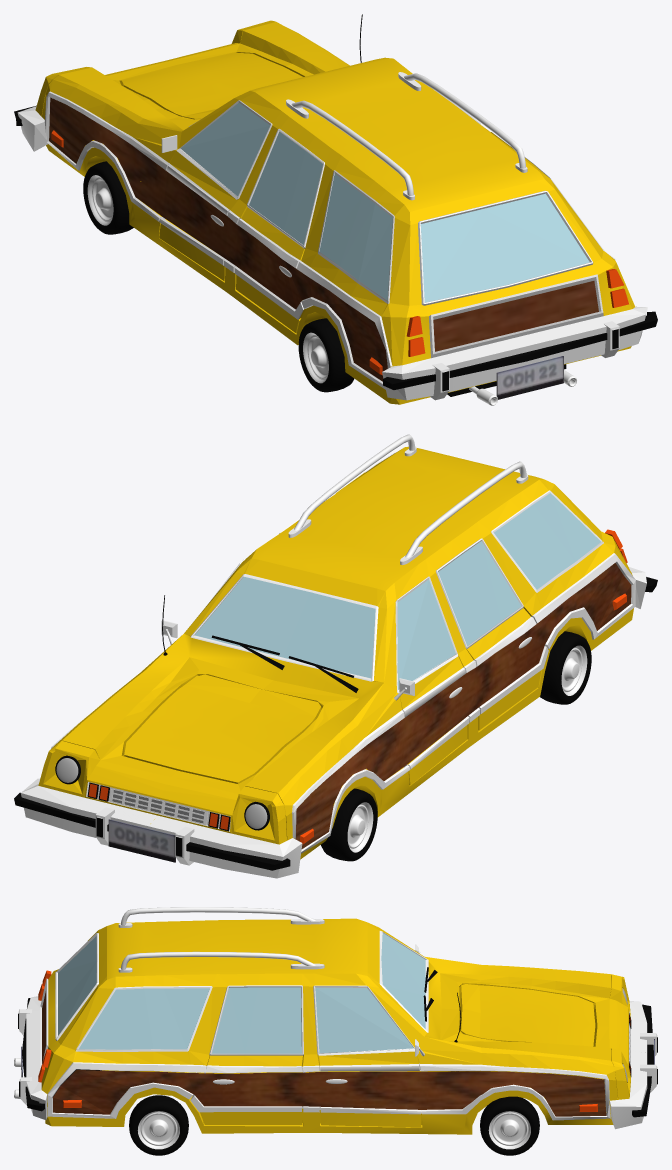
The model's file is gumball_carro_car.glb.
3 renders of one model, top to bottom at view 1: azimuth 30°, elevation 25°; view 2: azimuth 150°, elevation 25°; view 3: azimuth 270°, elevation 25°, orthographic. The views are drawn at different scales.
Visible parts, largest first — view 1: Box001_02 - Default_0 (×7), Cylinder008_02 - Default_0 (×2), Cylinder007_02 - Default_0 (×2); view 2: Box001_02 - Default_0 (×9), Cylinder008_02 - Default_0 (×2), Cylinder007_02 - Default_0 (×2); view 3: Box001_02 - Default_0 (×6), Cylinder005_02 - Default_0 (×2), Cylinder006_02 - Default_0 (×2).
Boxes of the visible parts, x1=… form: Box001_02 - Default_0 (×7): x1=14, y1=14, x2=657, y2=405; Cylinder008_02 - Default_0 (×2): x1=298, y1=318, x2=354, y2=392; Cylinder007_02 - Default_0 (×2): x1=83, y1=161, x2=133, y2=234; Box001_02 - Default_0 (×9): x1=14, y1=434, x2=657, y2=878; Cylinder008_02 - Default_0 (×2): x1=540, y1=631, x2=591, y2=704; Cylinder007_02 - Default_0 (×2): x1=321, y1=788, x2=377, y2=861; Box001_02 - Default_0 (×6): x1=14, y1=907, x2=657, y2=1134; Cylinder005_02 - Default_0 (×2): x1=129, y1=1095, x2=188, y2=1155; Cylinder006_02 - Default_0 (×2): x1=480, y1=1096, x2=539, y2=1155.
Bounding box in the file's own units: 2.52 × 1.89 × 6.28.
13 materials, 2 textured.
